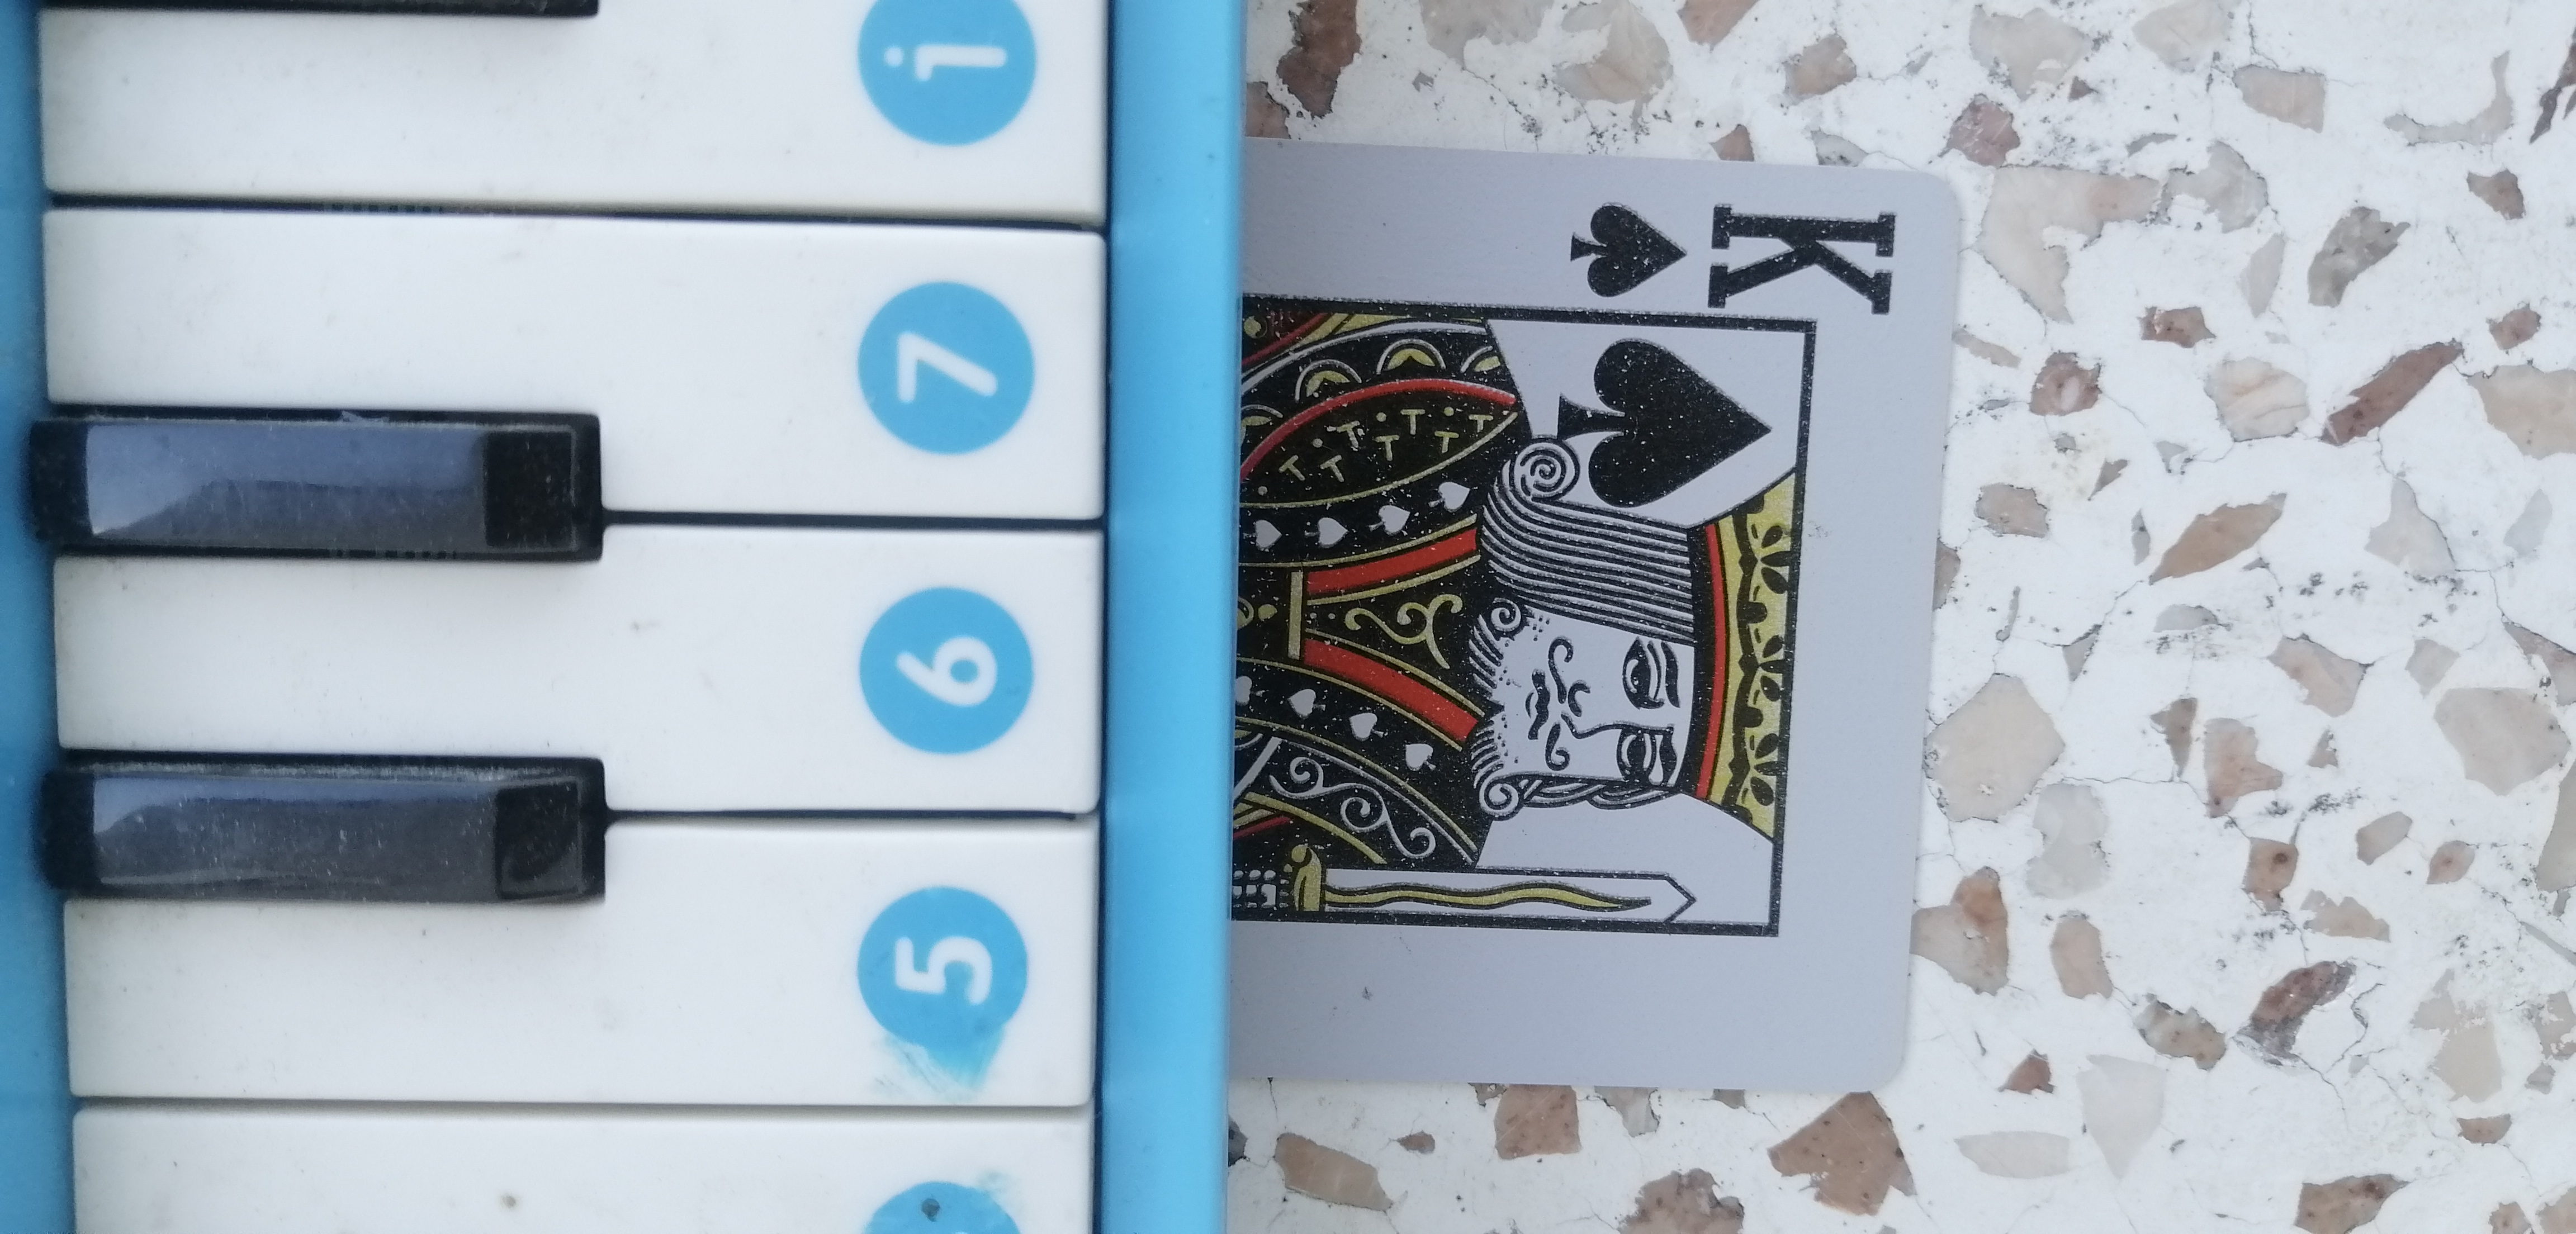king: (1193, 131, 1952, 1098)
